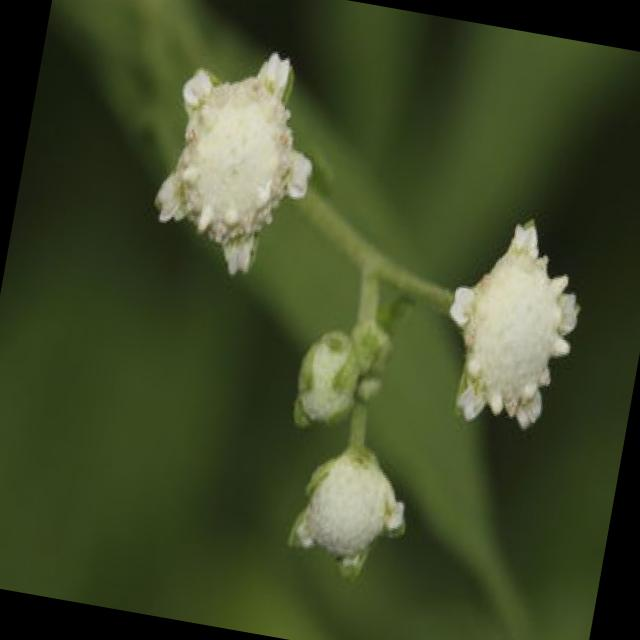Poisonous-Parthenium: (232, 288, 476, 600), (128, 40, 338, 298), (420, 203, 606, 452)
